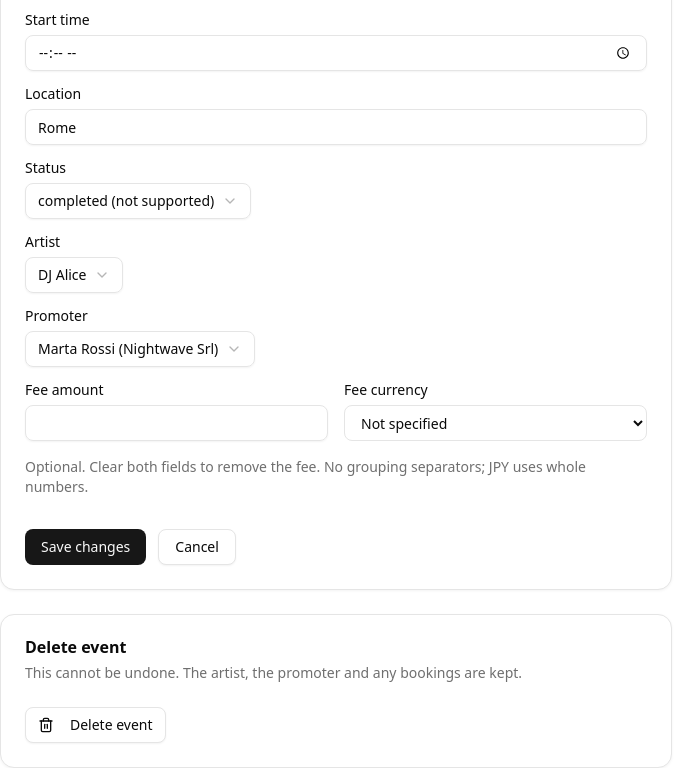
Test case: refuses to save an event whose stored status is not supported, without rewriting it
(page scrolled)
expect the dropdown named "Status" reads "completed (not supported)": met, box [25, 183, 251, 219]
Click the button "Save changes" at (86, 547), box [25, 529, 146, 565]
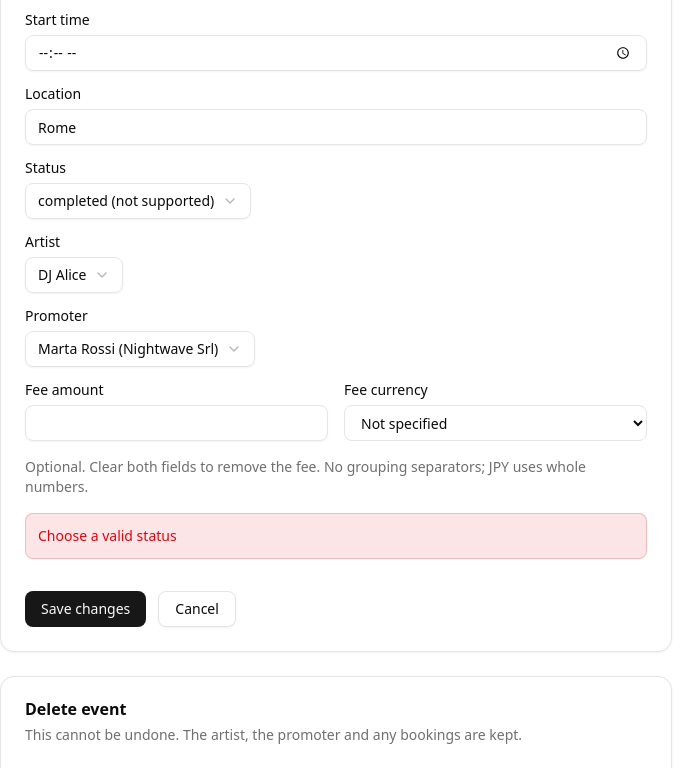
expect the message reads "Choose a valid status": met, box [38, 526, 177, 545]
